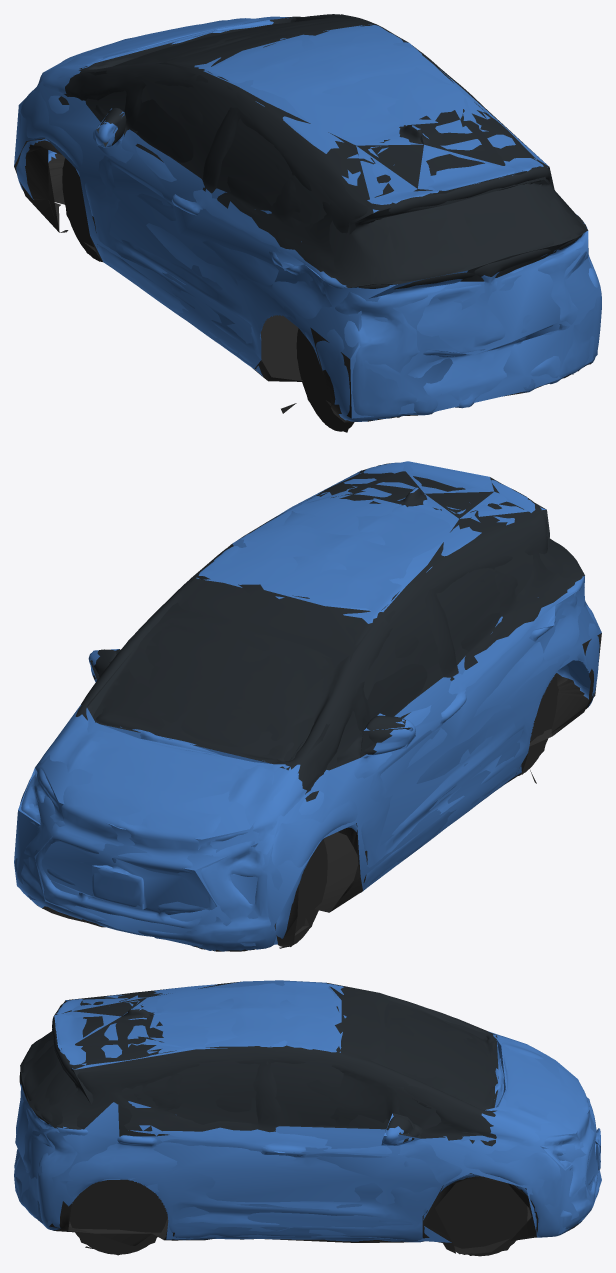
File: chevrolet-bolt-ev.glb
3 views of the same model, one above another, from view 1: azimuth 30°, elevation 25°; view 2: azimuth 150°, elevation 25°; view 3: azimuth 270°, elevation 25° (orthographic). The views are drawn at different scales.
Visible parts, largest first — view 1: body, far; view 2: body, far; view 3: body, far.
Boxes of the visible parts, left/top/right/bottom form: body: left=16, top=14, right=601, bottom=431; far: left=14, top=14, right=600, bottom=432; body: left=14, top=462, right=599, bottom=951; far: left=14, top=461, right=601, bottom=946; body: left=14, top=981, right=600, bottom=1256; far: left=14, top=980, right=601, bottom=1255.
Size of the model in its own units: 2.13 by 1.7 by 4.33.
